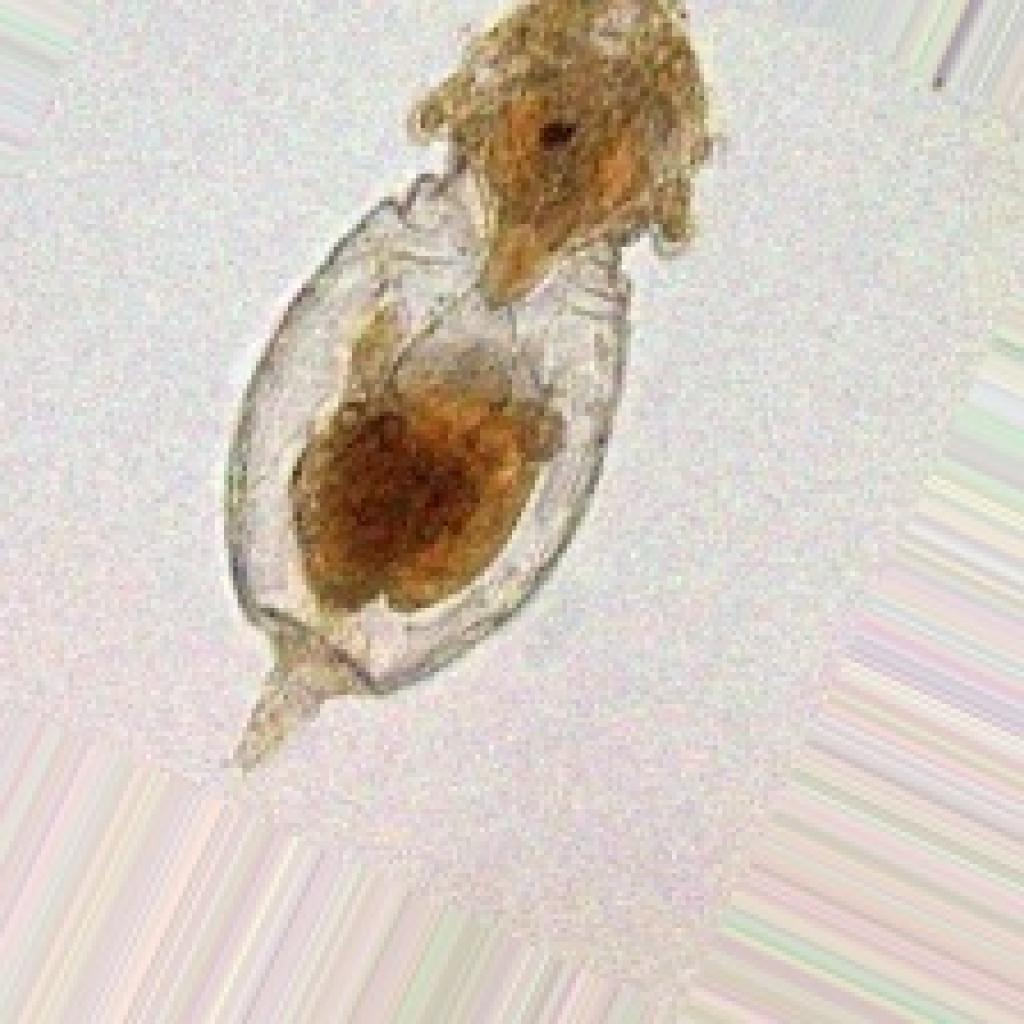Rotifer: (215, 0, 722, 773)
